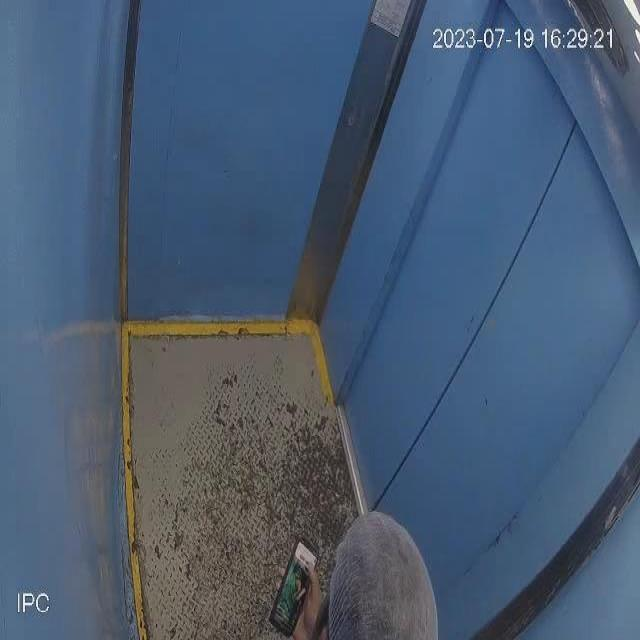person: (267, 502, 453, 640)
